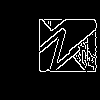N: (25, 25, 83, 82)
